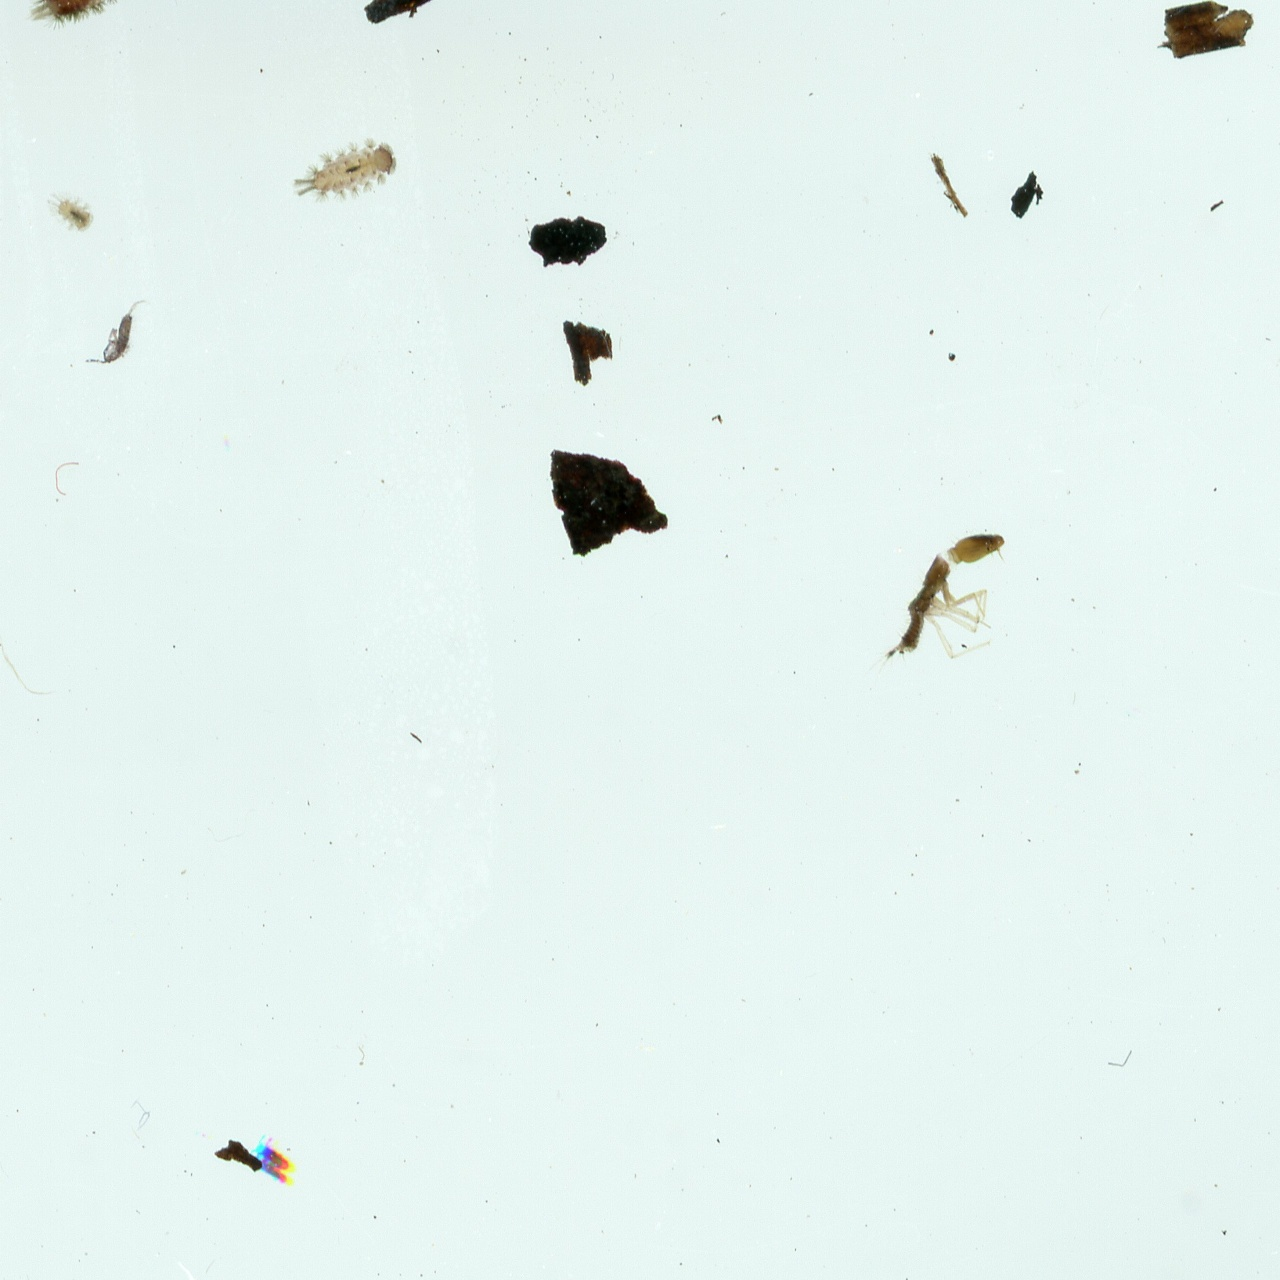arthropod: (869, 525, 1013, 680), (277, 122, 413, 226), (4, 0, 151, 56), (80, 284, 158, 379), (246, 1129, 307, 1180), (39, 189, 98, 237)
